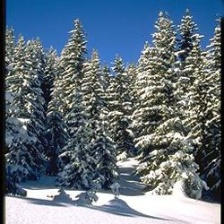neutral: (8, 1, 219, 222)
